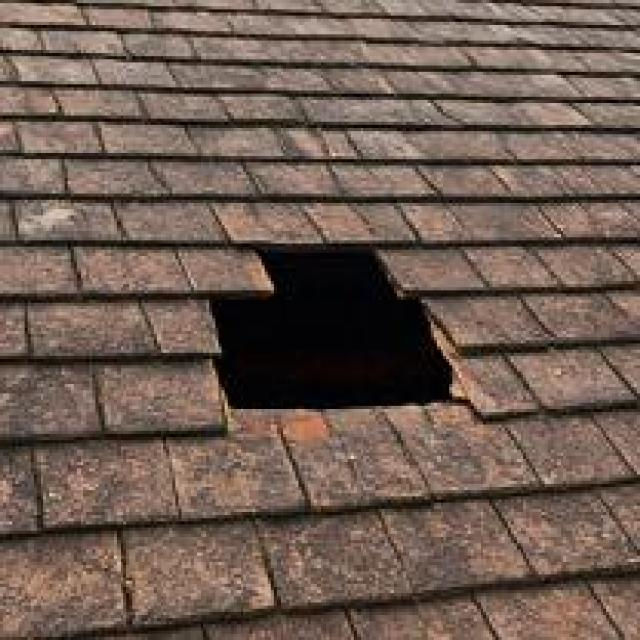trou: (200, 233, 478, 417)
